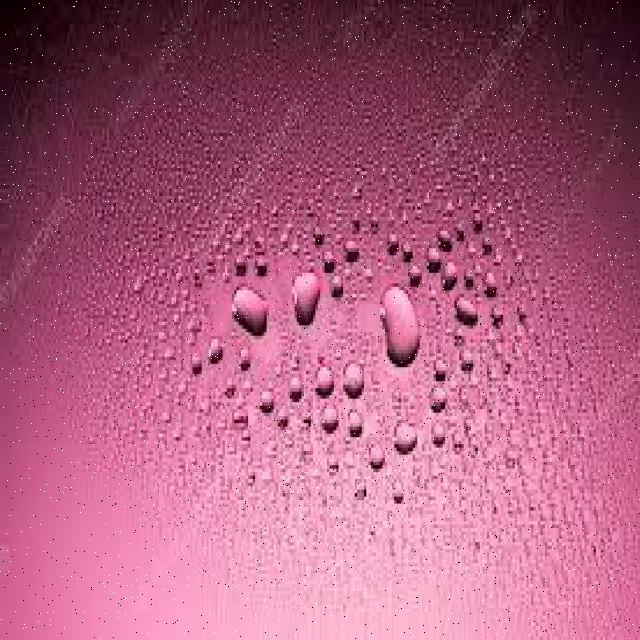raindrop: (365, 268, 422, 376), (223, 268, 278, 348), (282, 258, 326, 336), (387, 406, 421, 464), (446, 295, 482, 342), (341, 347, 368, 404), (358, 436, 392, 478), (338, 397, 366, 447), (314, 397, 342, 447), (308, 360, 338, 404), (279, 363, 307, 407), (200, 328, 224, 378), (421, 384, 454, 420), (437, 255, 462, 302), (422, 240, 446, 280), (254, 386, 277, 420)
